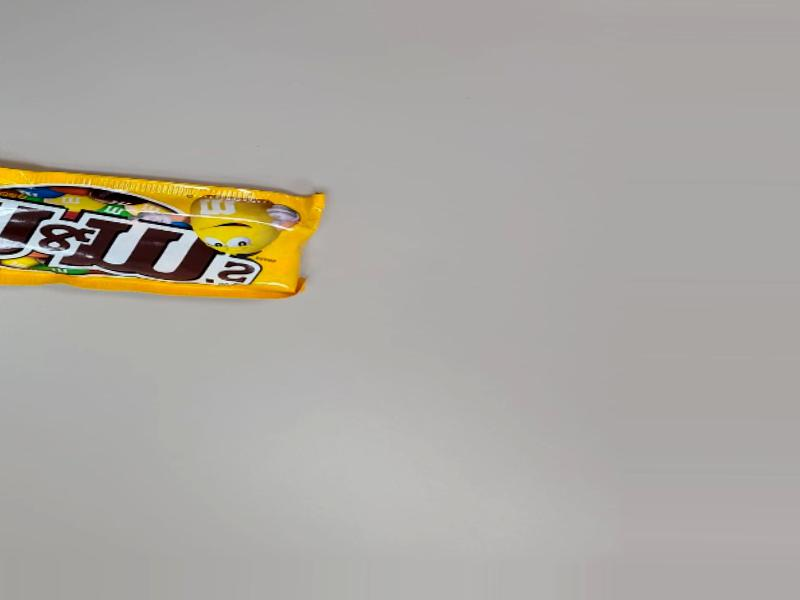m&m: (0, 157, 331, 350)
